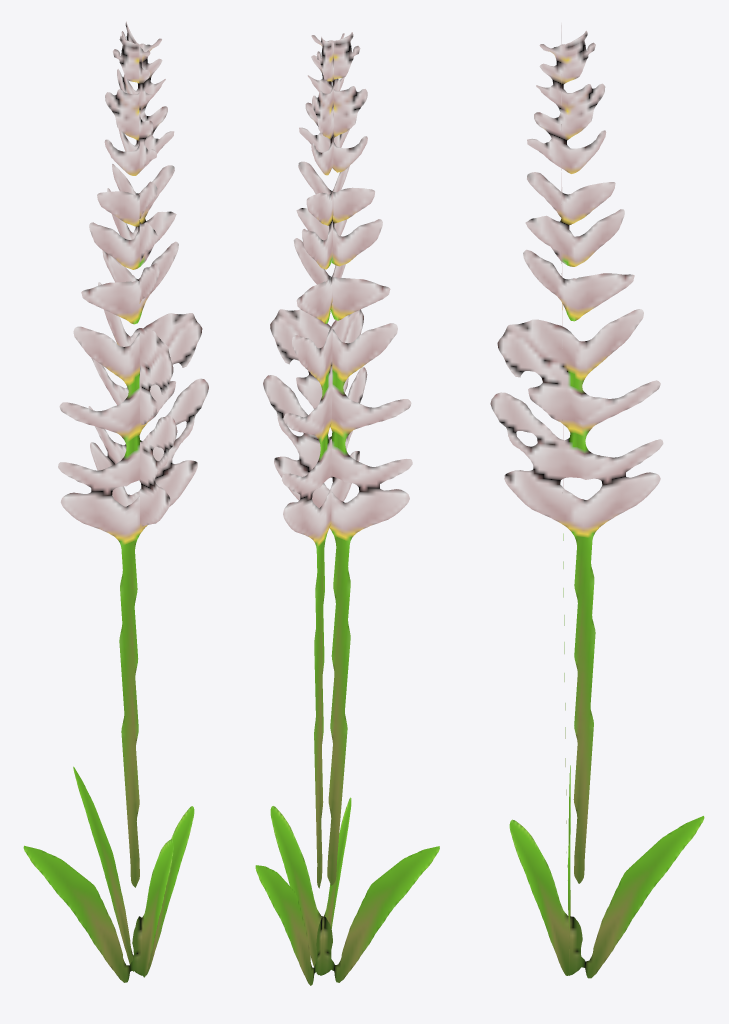
The model's file is SM_F_Flower_02.fbx.
3 views of the same model, side by side, from view 1: azimuth 30°, elevation 25°; view 2: azimuth 150°, elevation 25°; view 3: azimuth 270°, elevation 25° (orthographic).
Parts seen in each view (by area): view 1: SM_F_Flower_02; view 2: SM_F_Flower_02; view 3: SM_F_Flower_02.
Part boxes in pixels (bbox=[...]): SM_F_Flower_02: bbox=[23, 21, 208, 982]; SM_F_Flower_02: bbox=[255, 32, 439, 985]; SM_F_Flower_02: bbox=[490, 23, 704, 978].
Bounding box in the file's own units: 9.94 × 46.63 × 10.15.
